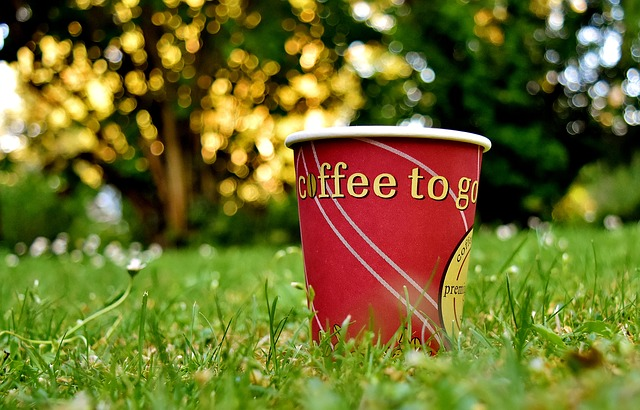cup: (278, 122, 498, 364)
